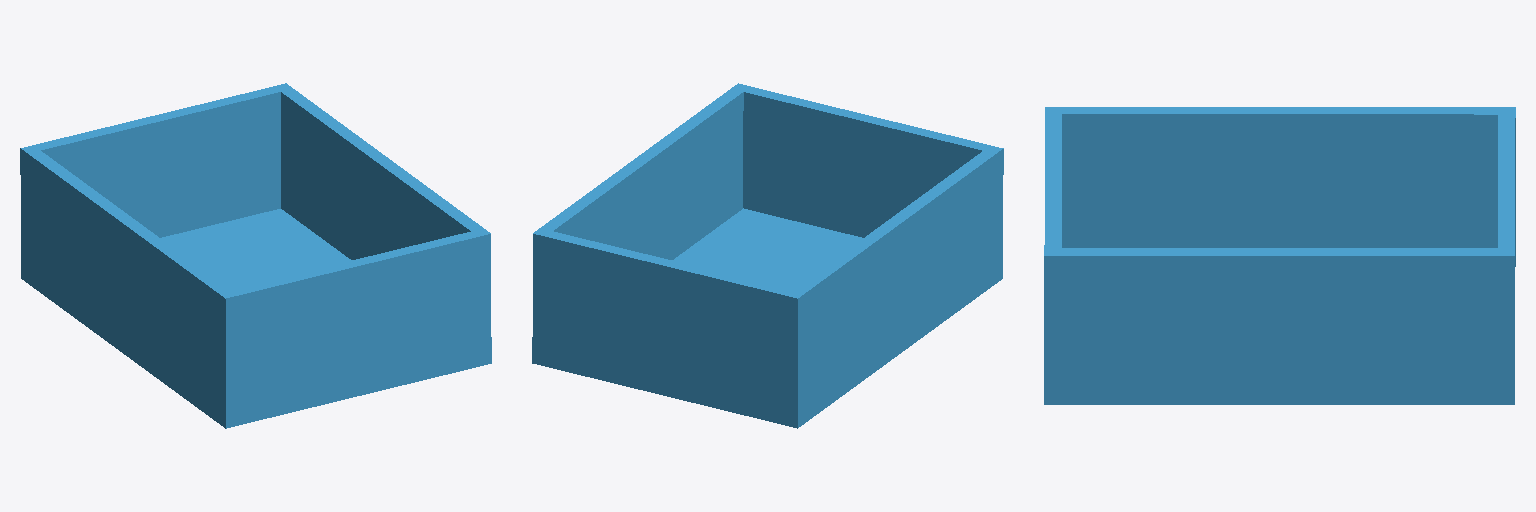
robot.urdf — cabine:
<?xml version="1.0"?>
<robot name="cabine">

<!-- conveyor belt is just a long flat box for objects to slide on it -->

<!-- world link -->
<link name="world"/>

<!-- base_link and its fixed joint -->
<joint name="joint_fix" type="fixed">
  <parent link="world"/>
  <child link="base_link"/>
</joint>


<link name="base_link">
  <collision>
    <origin xyz="0 0 0" rpy="1.57 0 1.57"/>
    <geometry>
      <mesh
        filename="package://ur_platform/model/bin.stl" />
    </geometry>
  </collision>

  <visual>
    <origin xyz="0 0 0" rpy="1.57 0 1.57"/>
    <geometry>
      <mesh
        filename="package://ur_platform/model/bin.stl" />
    </geometry>
  </visual>

  <inertial>
    <origin xyz="0 0 0" rpy="0 0 0"/>
    <mass value="1"/>
    <inertia
      ixx="1.0" ixy="0.0" ixz="0.0"
      iyy="1.0" iyz="0.0"
      izz="1.0"/>
  </inertial>
</link>


</robot>

--- Render facts (derived) ---
3 views of the same robot in one strip: view 1: azimuth 30°, elevation 25°; view 2: azimuth 150°, elevation 25°; view 3: azimuth 270°, elevation 25° (orthographic).
Model cabine with 2 links and 1 joints (1 fixed), rooted at world, posed all joints at 0.
Links seen in each view (by area): view 1: base_link; view 2: base_link; view 3: base_link.
Boxes of the visible links, box(x1,y1,x2,y2) form: base_link: box(20, 83, 491, 428); base_link: box(532, 83, 1003, 428); base_link: box(1044, 107, 1515, 404).
Size in the robot's own frame: 0.3104 by 0.4152 by 0.1452 metres.
1 mesh visuals loaded from 1 distinct referenced files (1 binary STL).